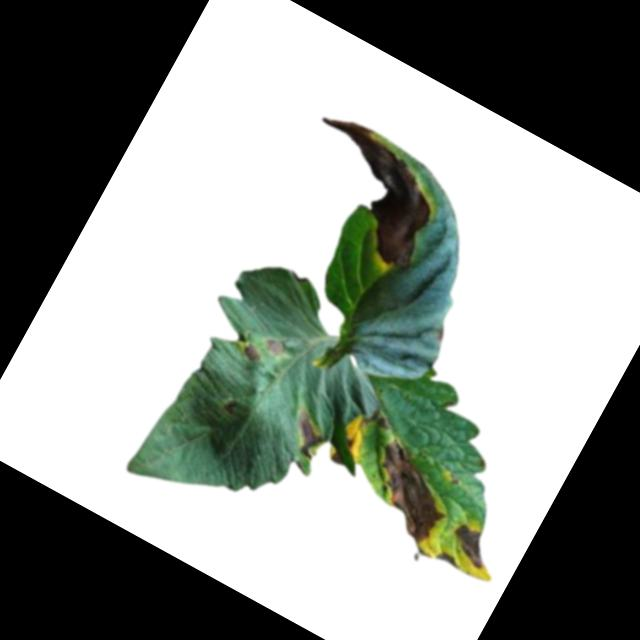Early_blight: (273, 107, 461, 278), (351, 434, 466, 549), (442, 521, 499, 573), (281, 408, 331, 460), (334, 415, 376, 464), (260, 334, 288, 359), (433, 548, 460, 573), (238, 343, 261, 364)
